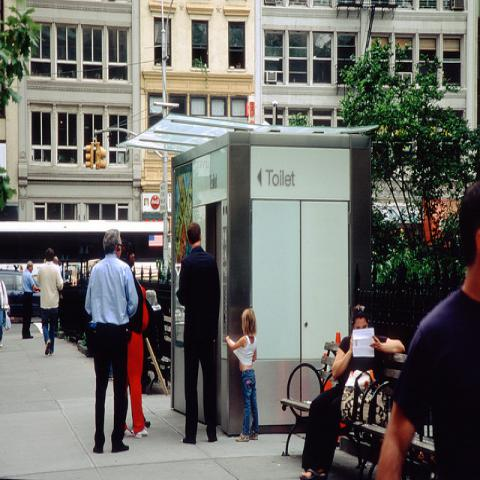bus: (0, 221, 163, 282)
car: (0, 271, 41, 318)
